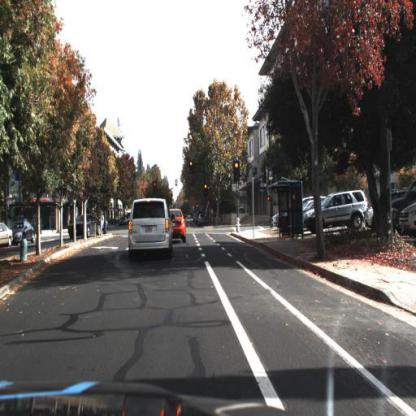car: (302, 189, 372, 235), (128, 195, 175, 261), (307, 187, 367, 233), (67, 210, 104, 241), (9, 220, 37, 246), (12, 218, 37, 247), (170, 207, 188, 247), (365, 203, 379, 232), (91, 213, 110, 234)
trafficLight-Red: (234, 158, 244, 187), (189, 160, 195, 181), (234, 161, 240, 180), (202, 181, 209, 197), (204, 183, 209, 198), (189, 161, 194, 174)
trafficLight-RedLeft: (151, 178, 159, 196), (151, 179, 156, 195)
